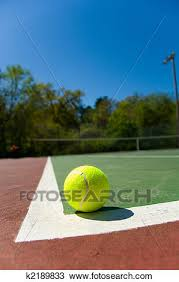tennis_ball: (62, 164, 111, 215)
